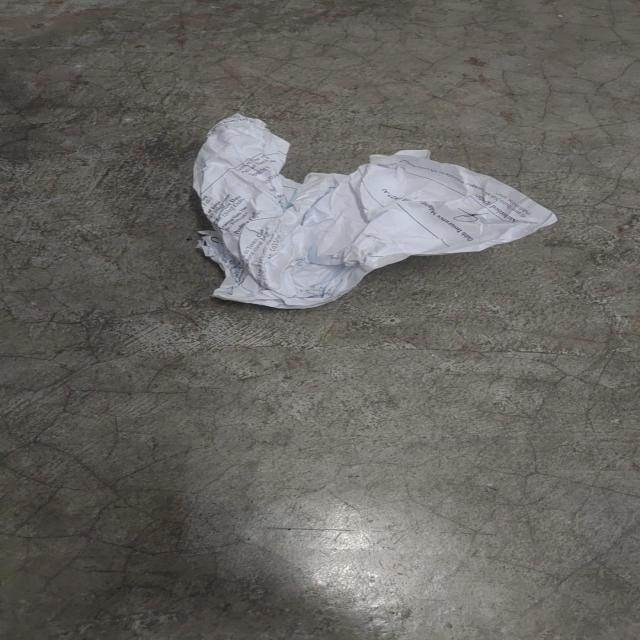paper: (185, 111, 562, 313)
